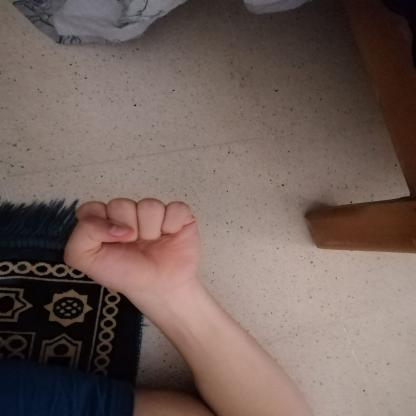SAD: (36, 188, 226, 305)
